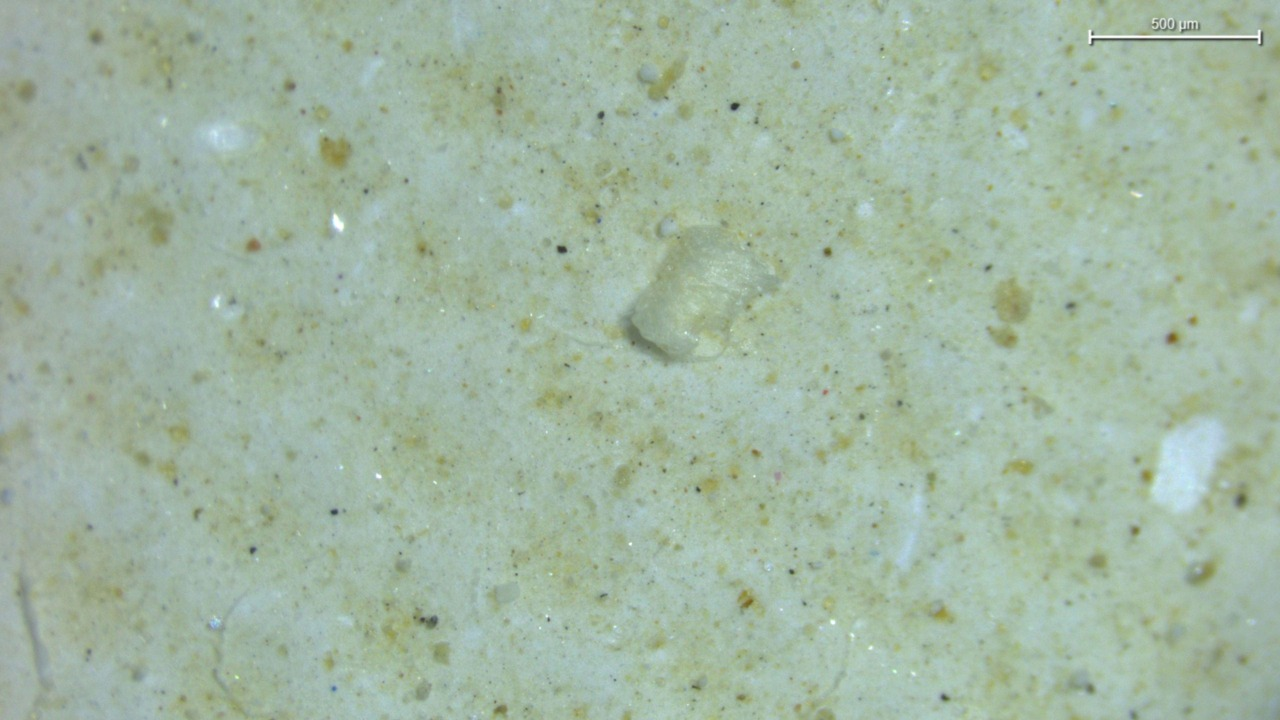microplastic_fragment: (630, 227, 779, 361)
